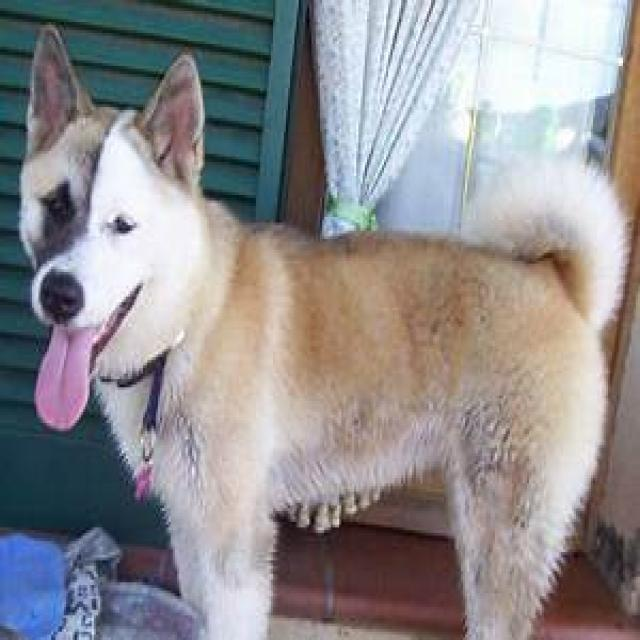dog: (17, 25, 631, 640)
